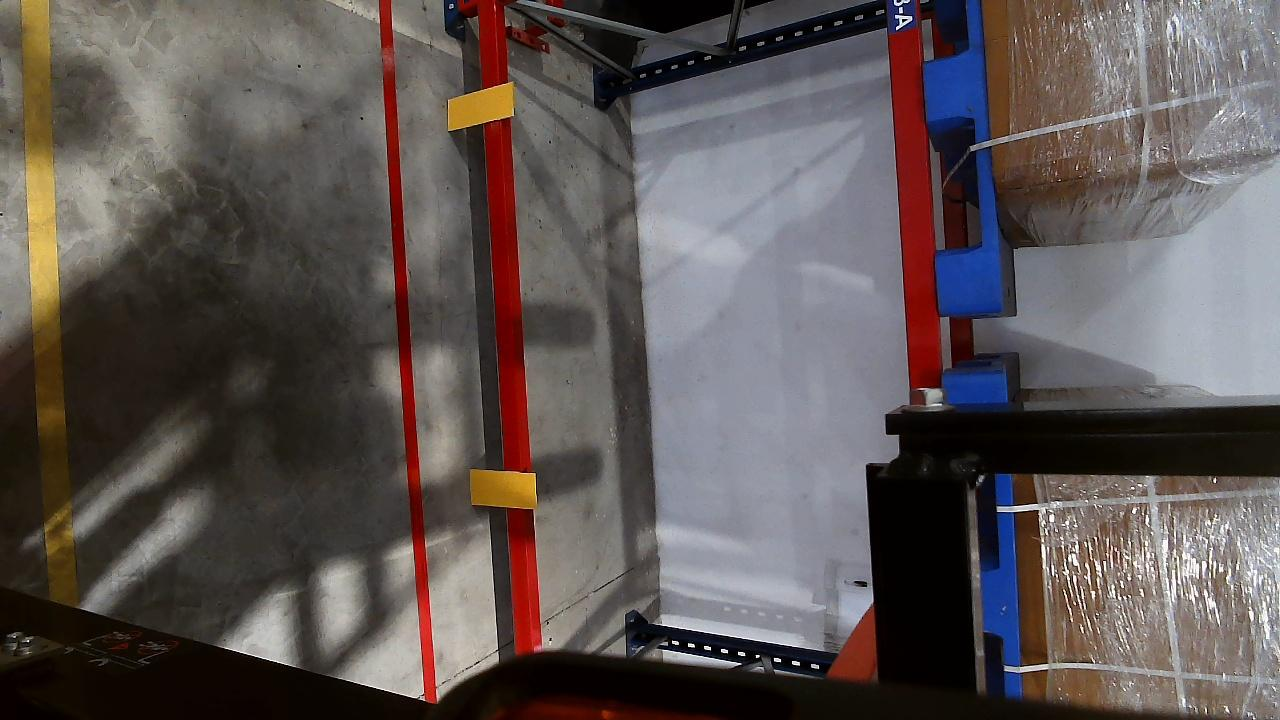h_rack: (478, 3, 545, 651), (882, 0, 944, 405)
orange_strip: (445, 83, 515, 130), (469, 469, 535, 509)
red_line: (381, 5, 430, 662)
small_pallet: (916, 0, 1008, 309)
yellow_line: (17, 0, 74, 607)
